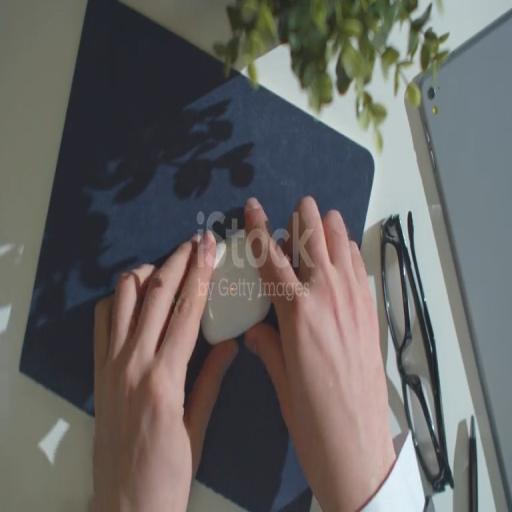earphone: (188, 239, 280, 343)
